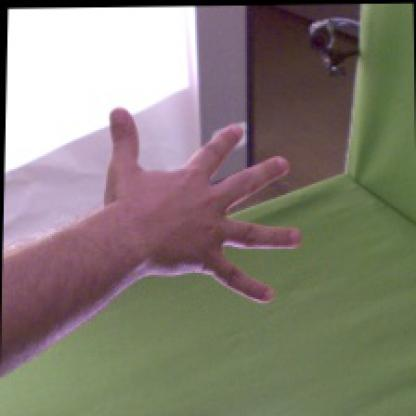Hand: (104, 106, 302, 302)
